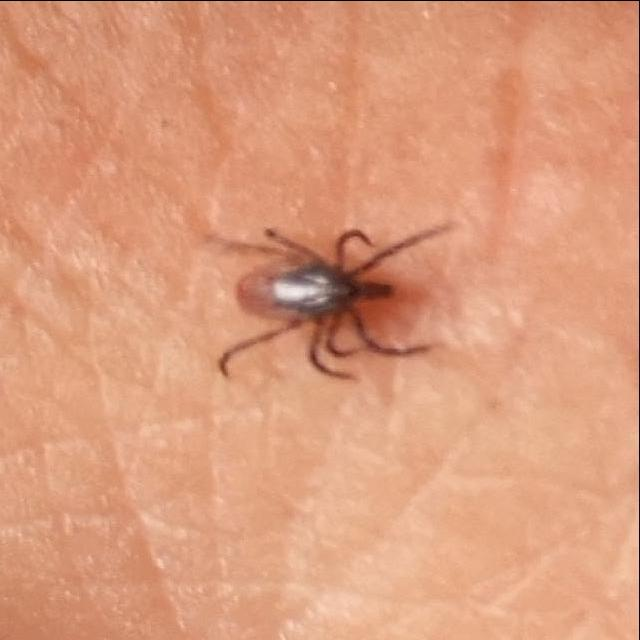Ixodes Ricinus-F: (221, 228, 443, 378)
